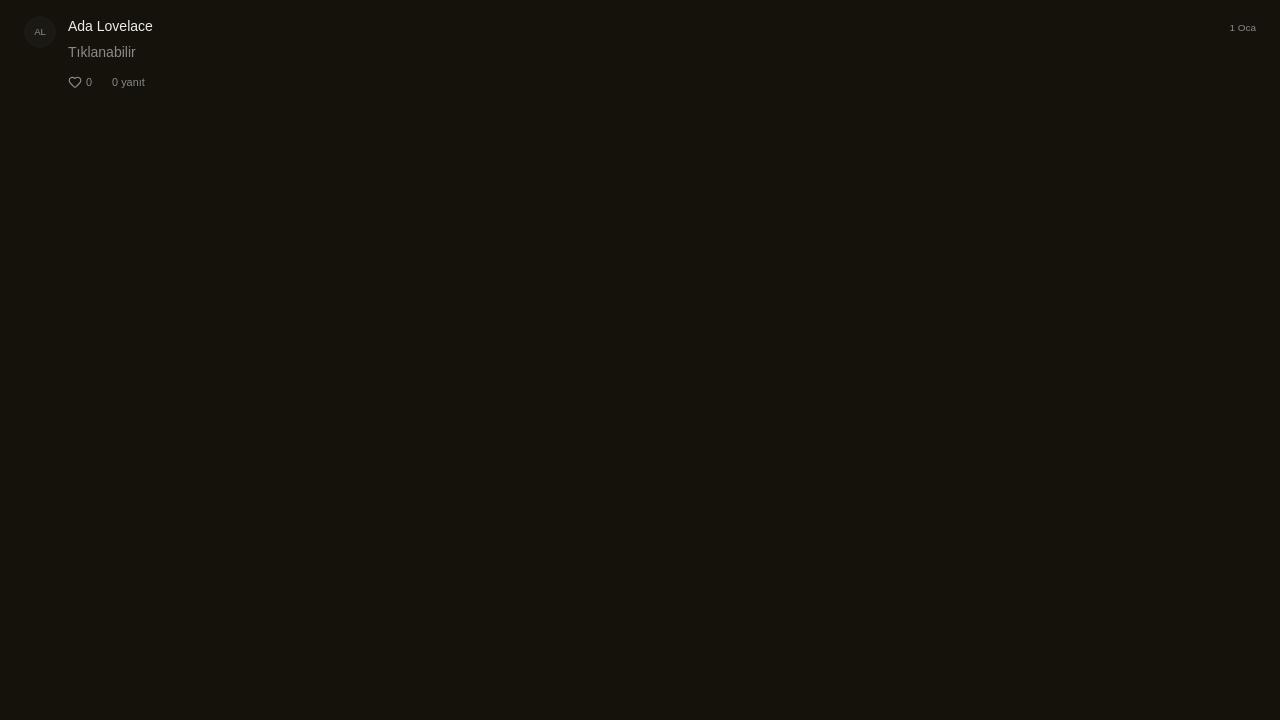
RecentPostsPreview — logged out (uid null) › the row itself still opens the thread popup for a logged-out viewer
Step 1. Click the text "Tıklanabilir" → click(102, 52), box [68,44,136,60]
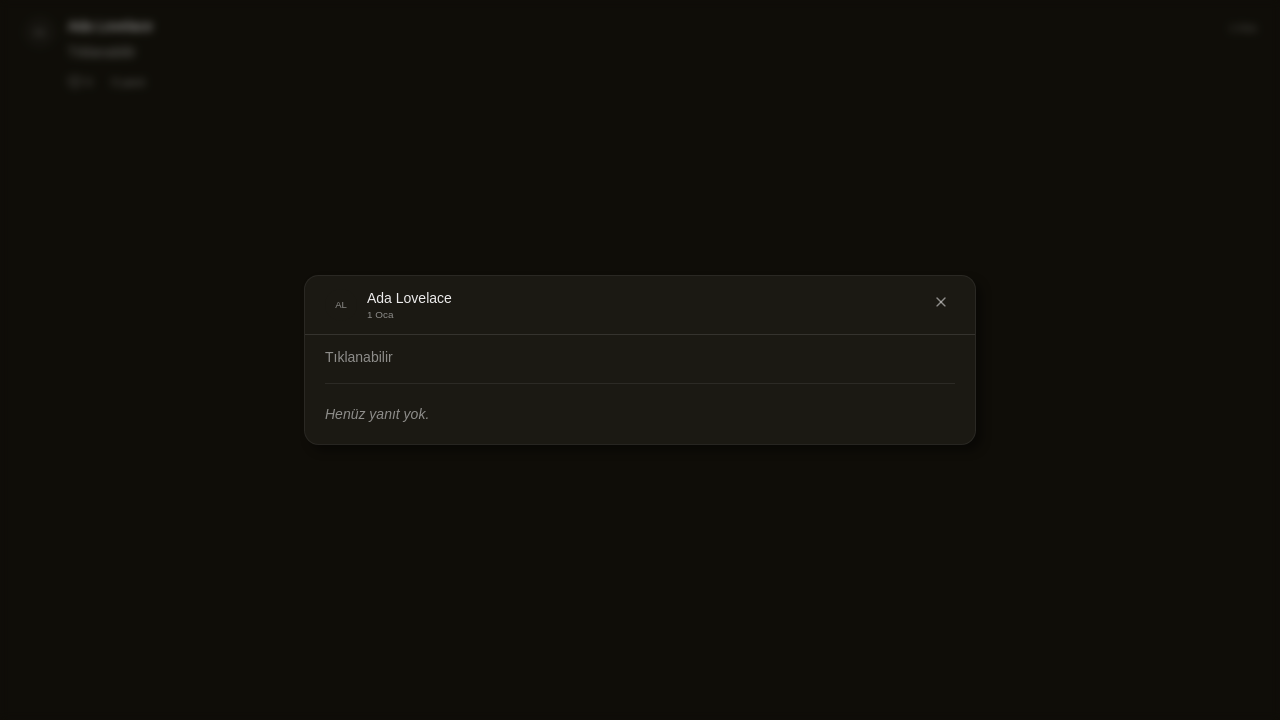
Check: the dialog is shown, box [304,275,976,445]
